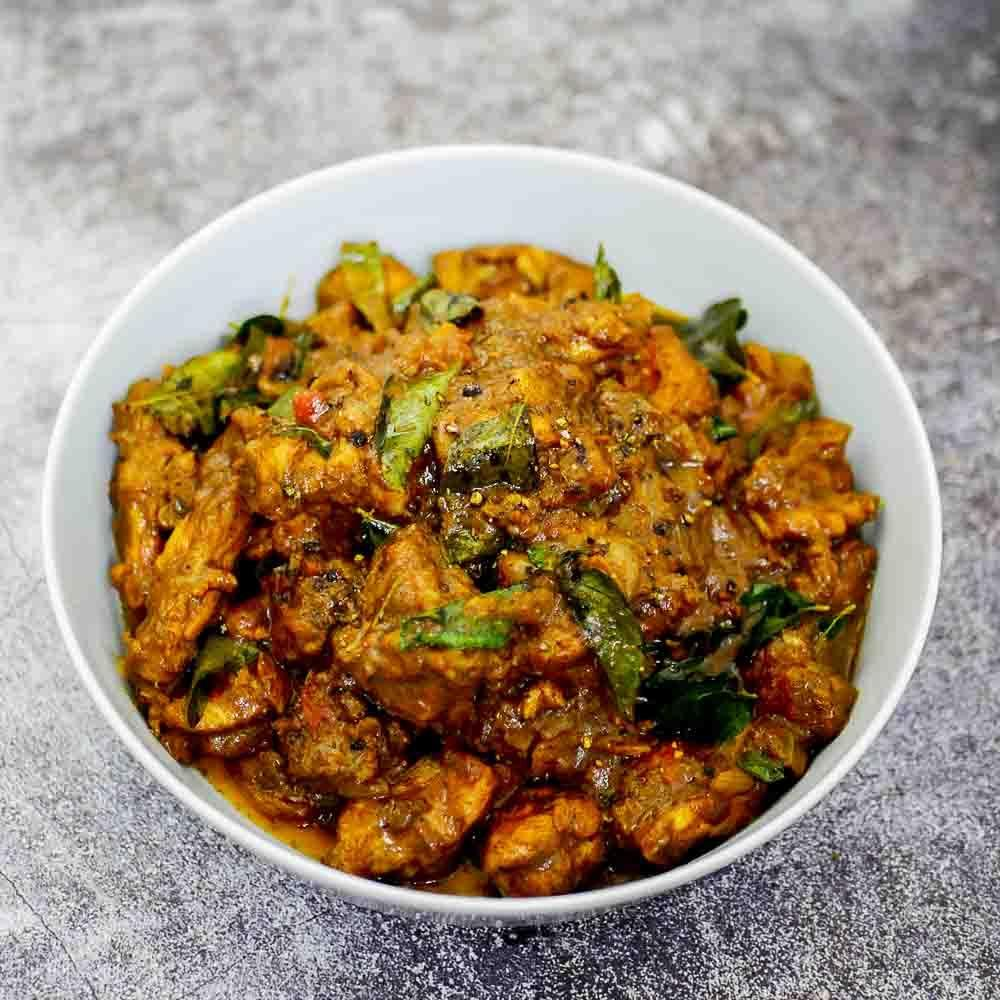chicken: (127, 229, 878, 880)
